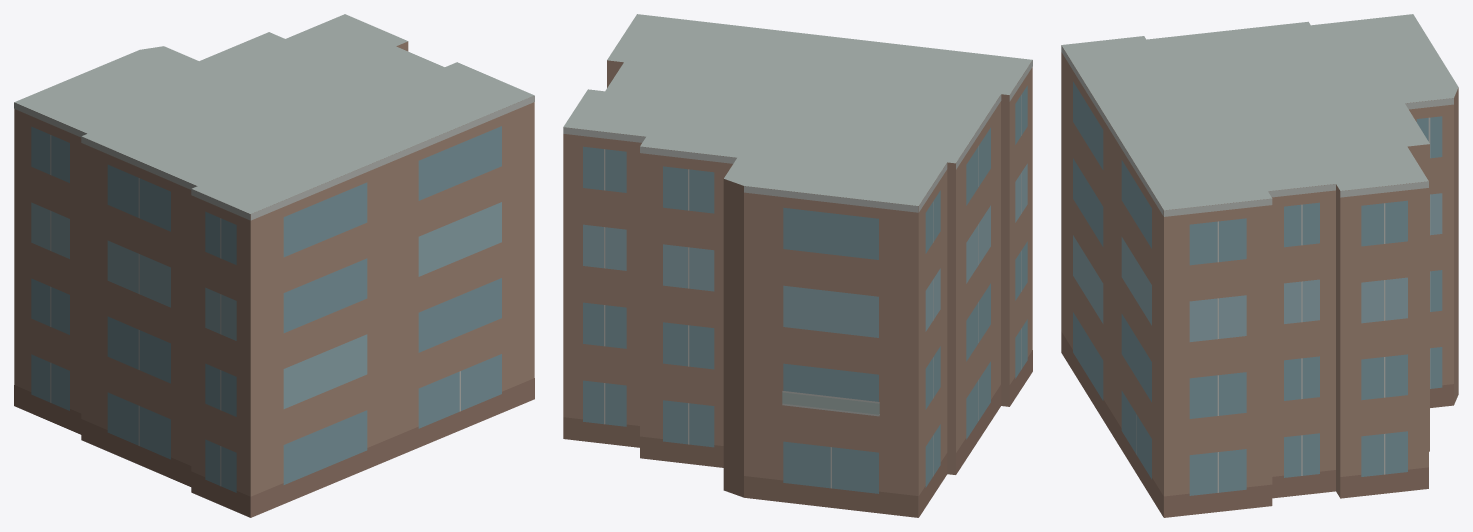
Rendered from survey-upis-32667067.glb.
The picture shows the model from 3 angles, left to right: view 1: azimuth 30°, elevation 25°; view 2: azimuth 150°, elevation 25°; view 3: azimuth 270°, elevation 25°; orthographic projection. The views are drawn at different scales.
Visible parts, largest first — view 1: survey-upis-32667067.tmp; view 2: survey-upis-32667067.tmp; view 3: survey-upis-32667067.tmp.
Boxes of the visible parts, left/top/right/bottom form: survey-upis-32667067.tmp: left=14, top=14, right=534, bottom=517; survey-upis-32667067.tmp: left=563, top=14, right=1032, bottom=517; survey-upis-32667067.tmp: left=1061, top=14, right=1458, bottom=517.
Size of the model in its own units: 15.62 by 11.4 by 13.36.
